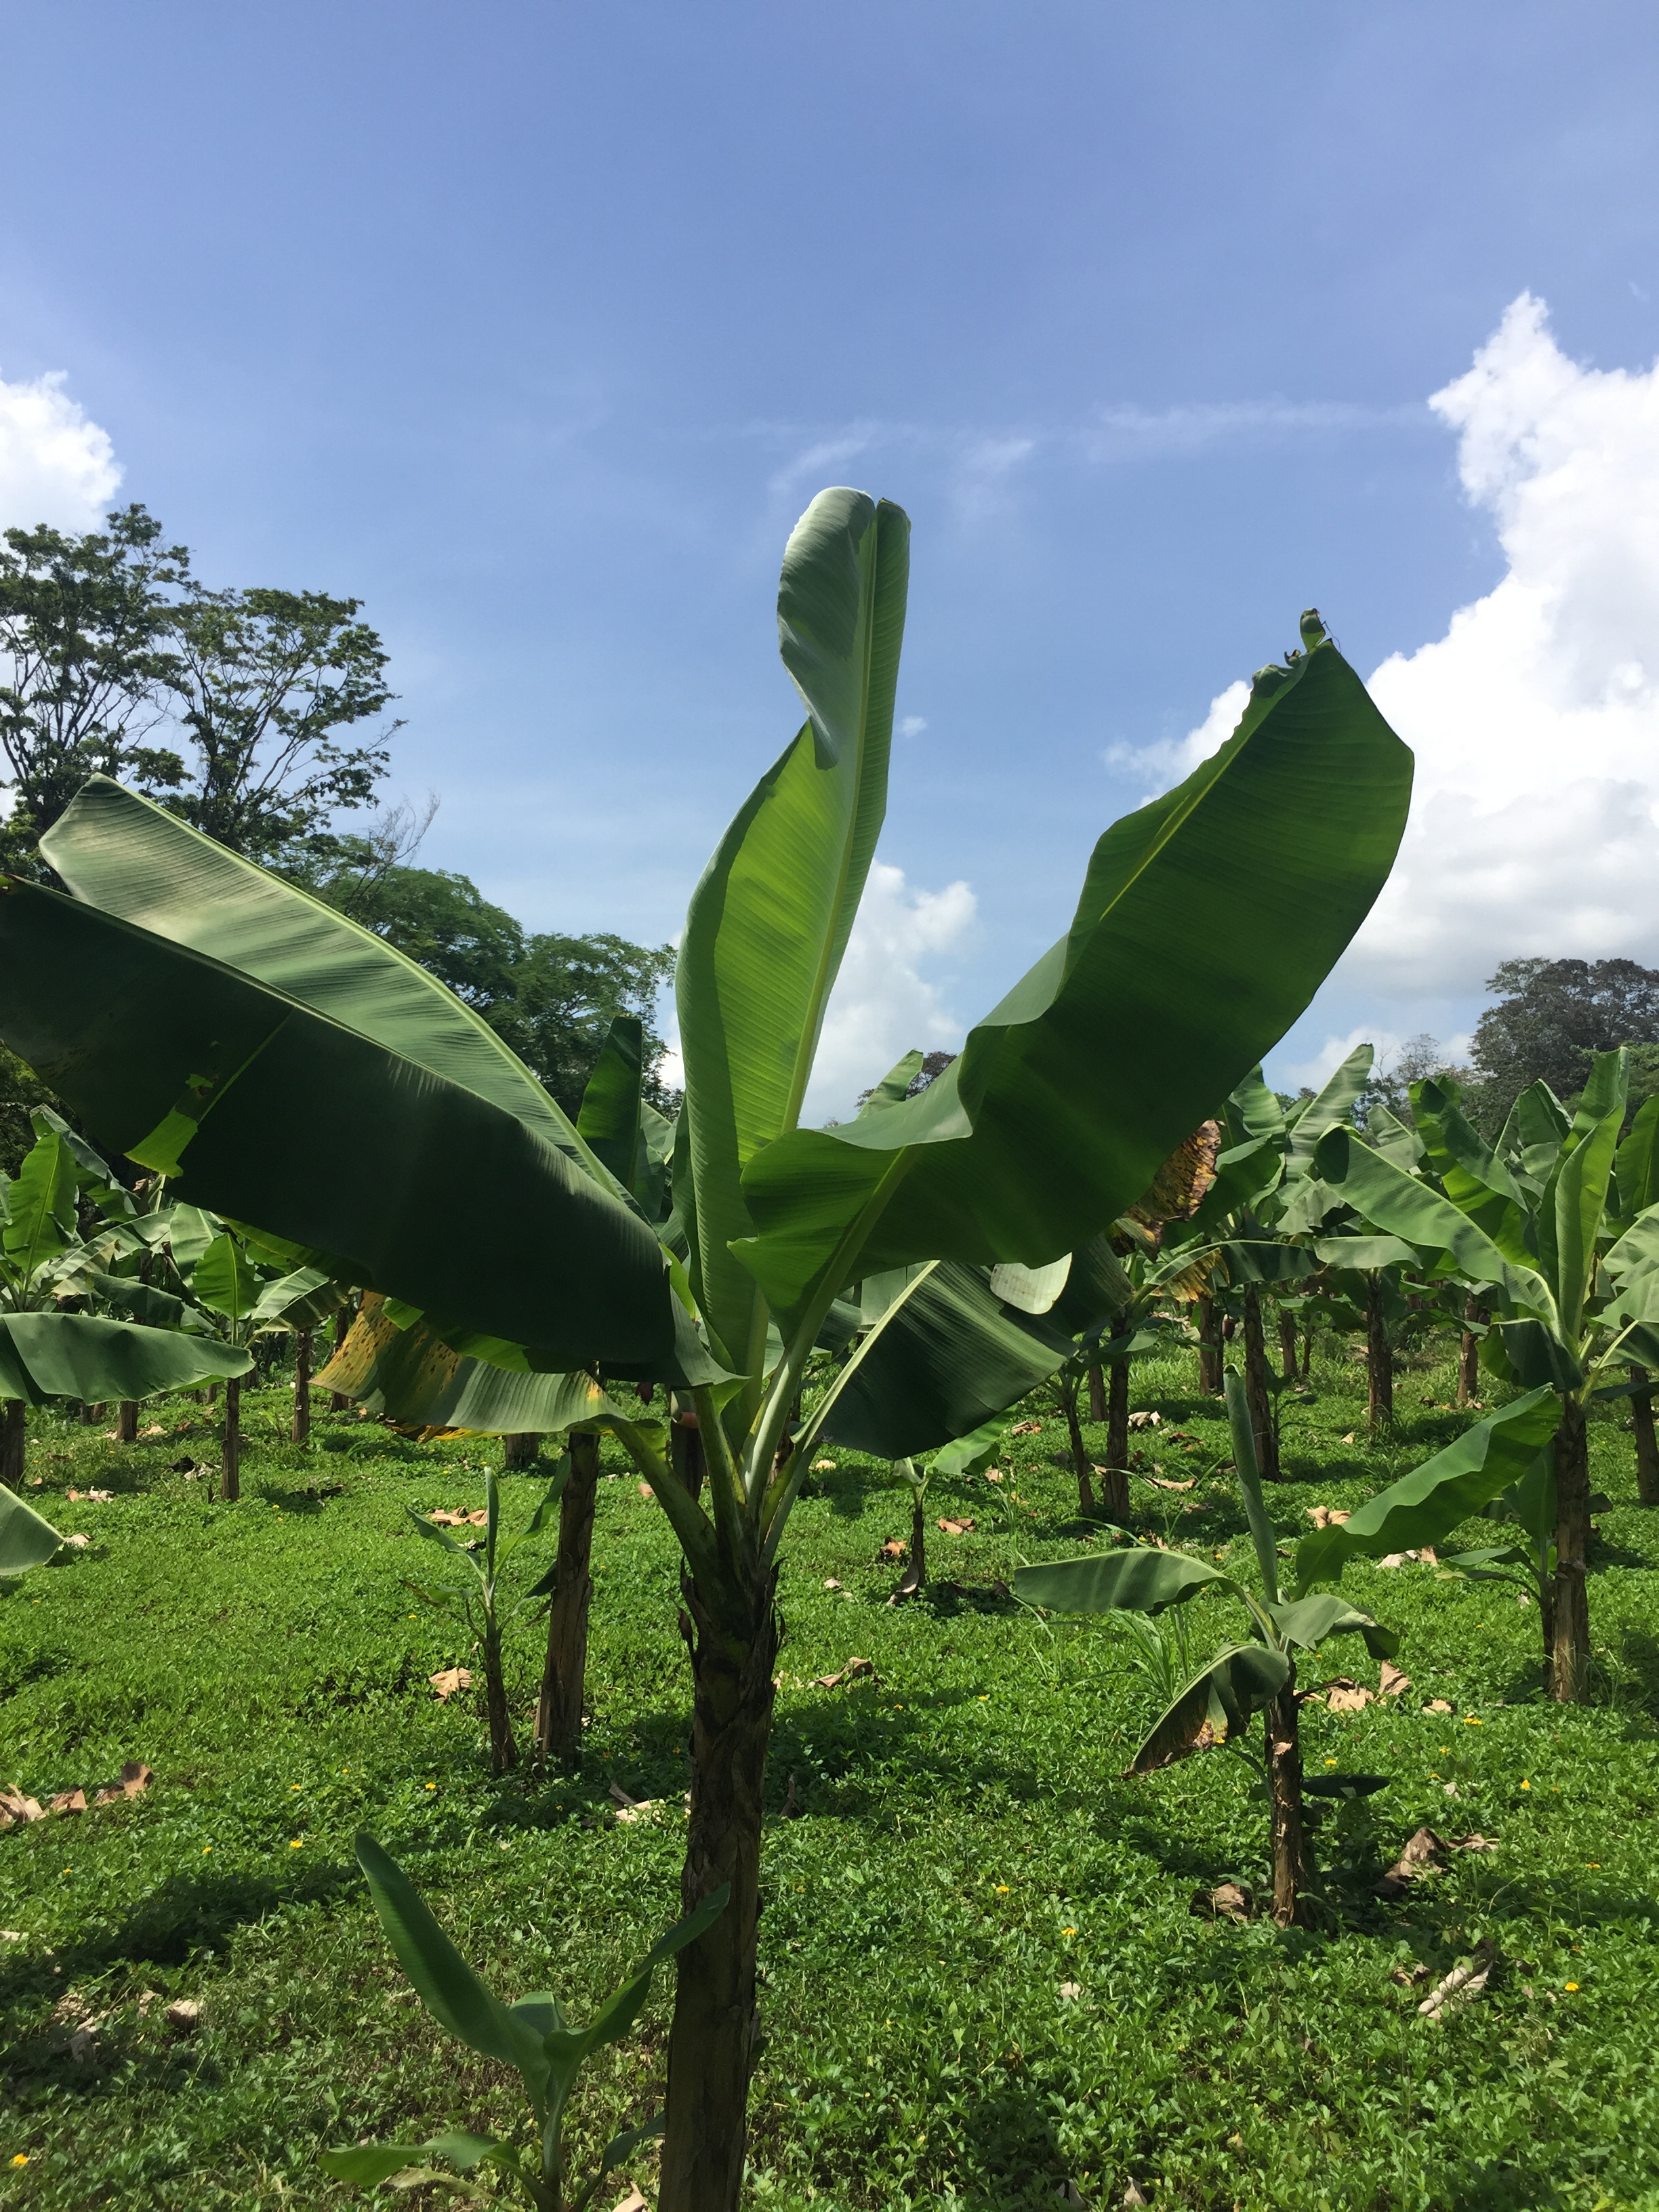candleleafs: (1553, 1106, 1617, 1325), (1223, 1362, 1277, 1604), (484, 1467, 497, 1578)
